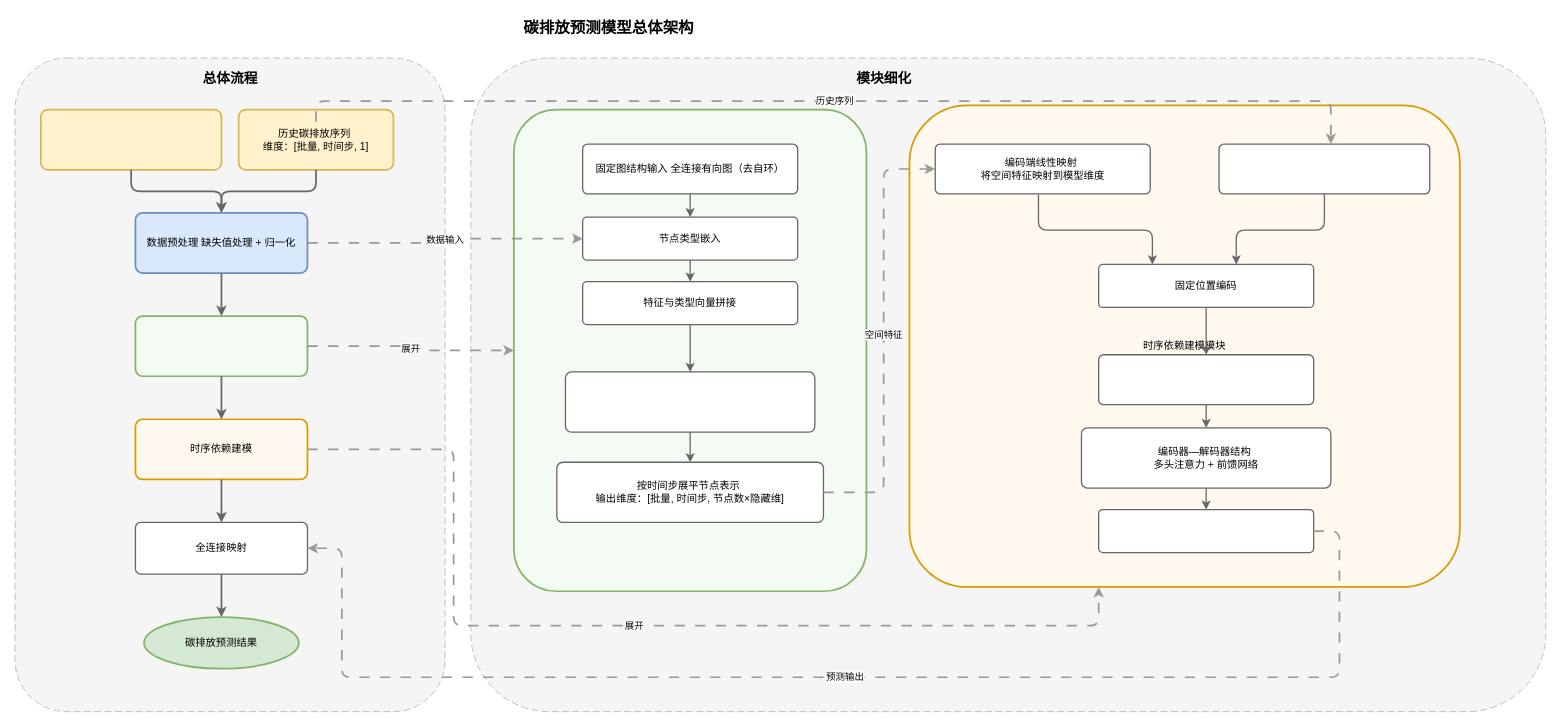
Image size: 1561x727. Some labels were removed from this diagram. Each missing label, with the box of its shape:
取最后时间步表示: (1098, 509, 1314, 553)
图卷积层 TransformerConv + 批归一化 + ReLU: (564, 371, 815, 432)
图结构空间特征提取: (134, 315, 308, 377)
图结构空间特征提取模块: (513, 108, 867, 592)
多源驱动因素序列 维度：[批量, 时间步, 节点数, 特征维]: (40, 108, 222, 170)
掩码机制 约束预测时仅使用已知历史信息: (1098, 354, 1314, 405)
解码端线性映射 将历史碳排放映射到模型维度: (1218, 143, 1430, 194)
